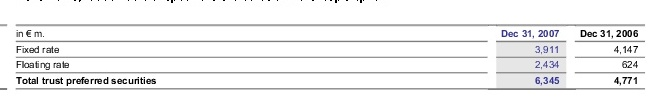table: (0, 0, 662, 112)
